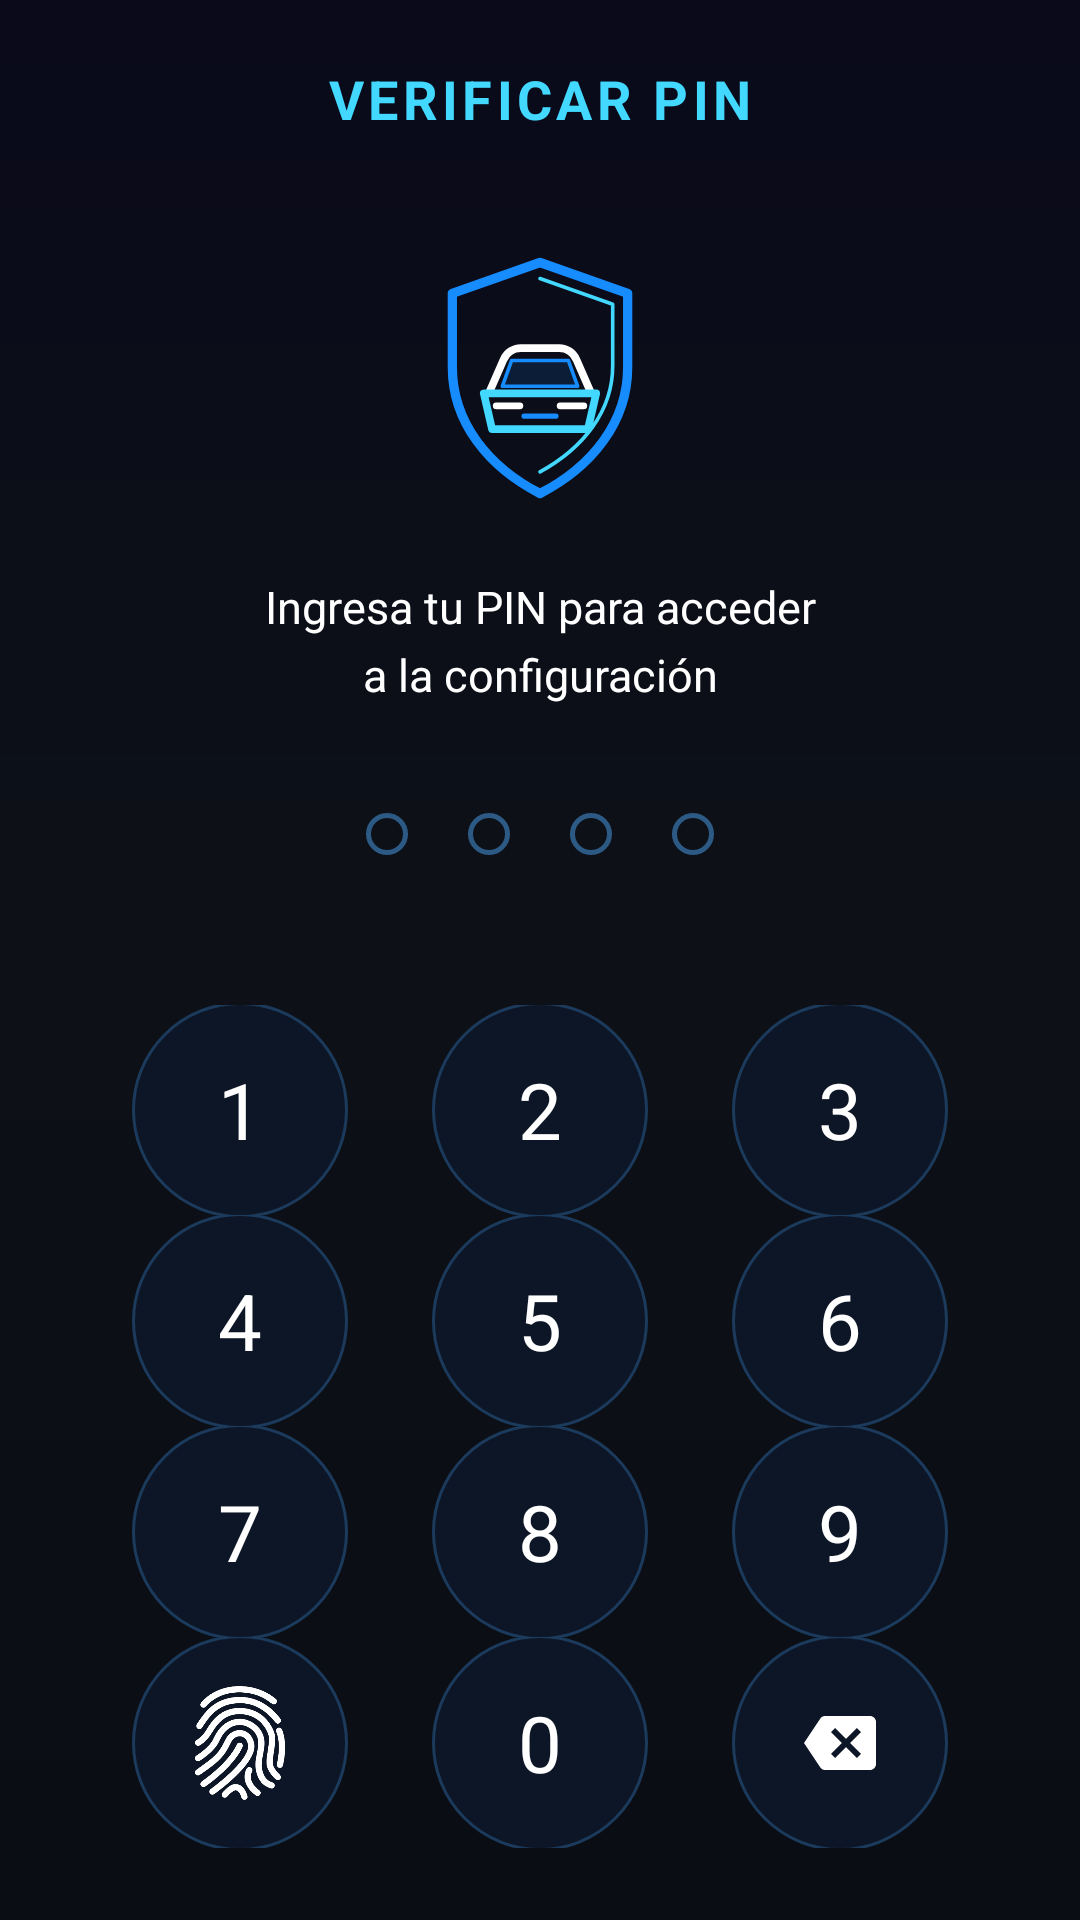

Icon click points for this 1080px x 1920px phone screenshot, format [x,y]:
Borrar: [840,1743]
pin dot empty: [387,834], [489,834], [591,834], [693,834]
Usar huella digital: [240,1743]
